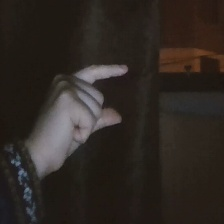G: (34, 59, 137, 176)
